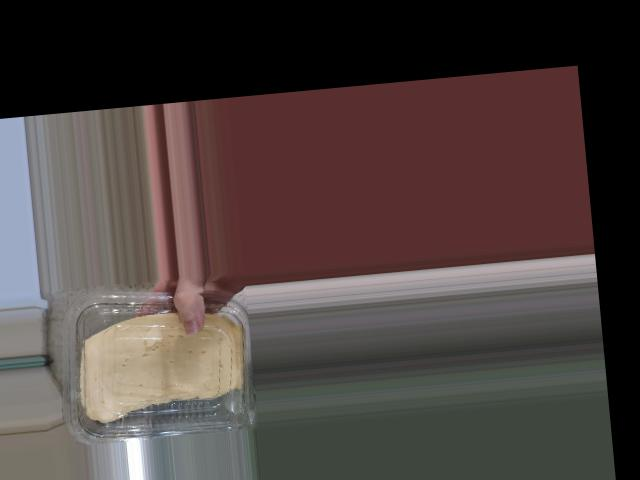cheese: (54, 296, 260, 447)
